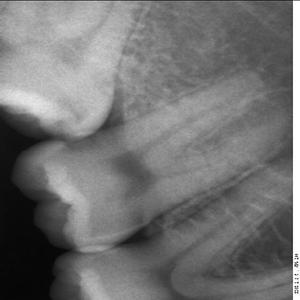tooth: (16, 73, 290, 251), (50, 167, 289, 300), (2, 2, 122, 142)
